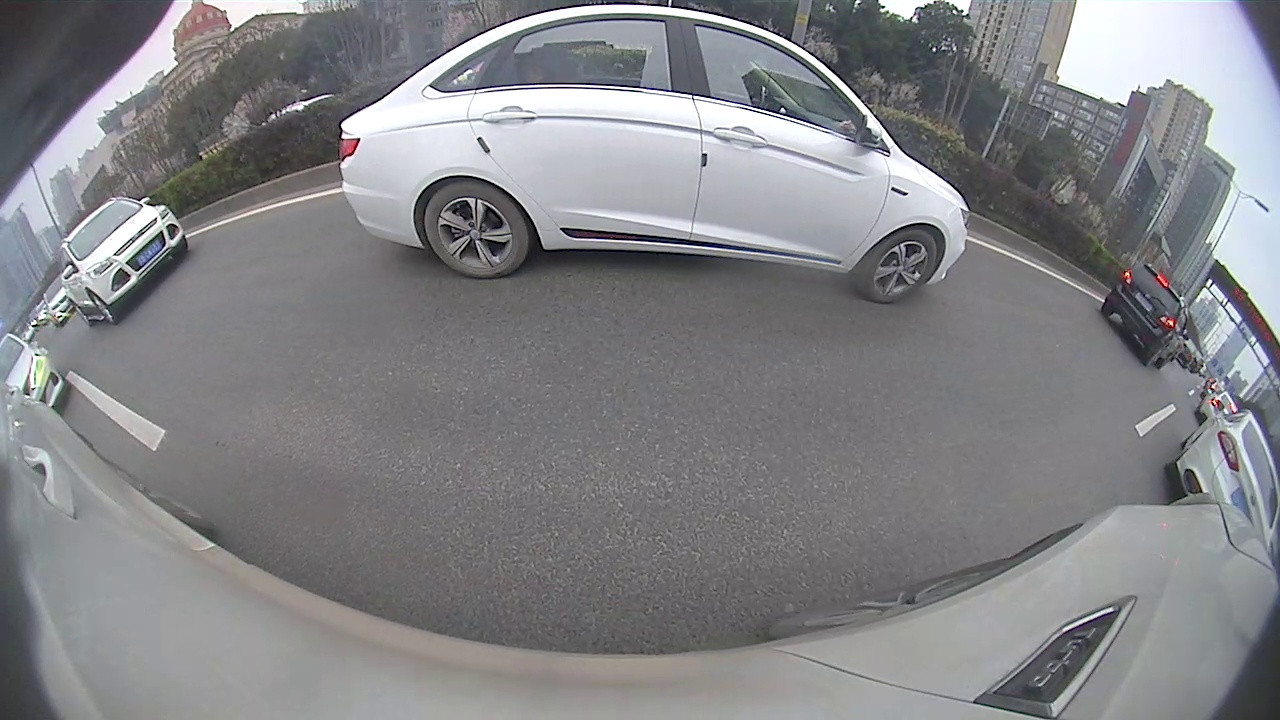car: (338, 4, 975, 306), (1166, 400, 1279, 559), (58, 194, 190, 329), (1100, 262, 1191, 369), (0, 330, 72, 413)
front: (860, 226, 939, 302), (89, 290, 118, 325)
rear: (421, 179, 528, 283)
